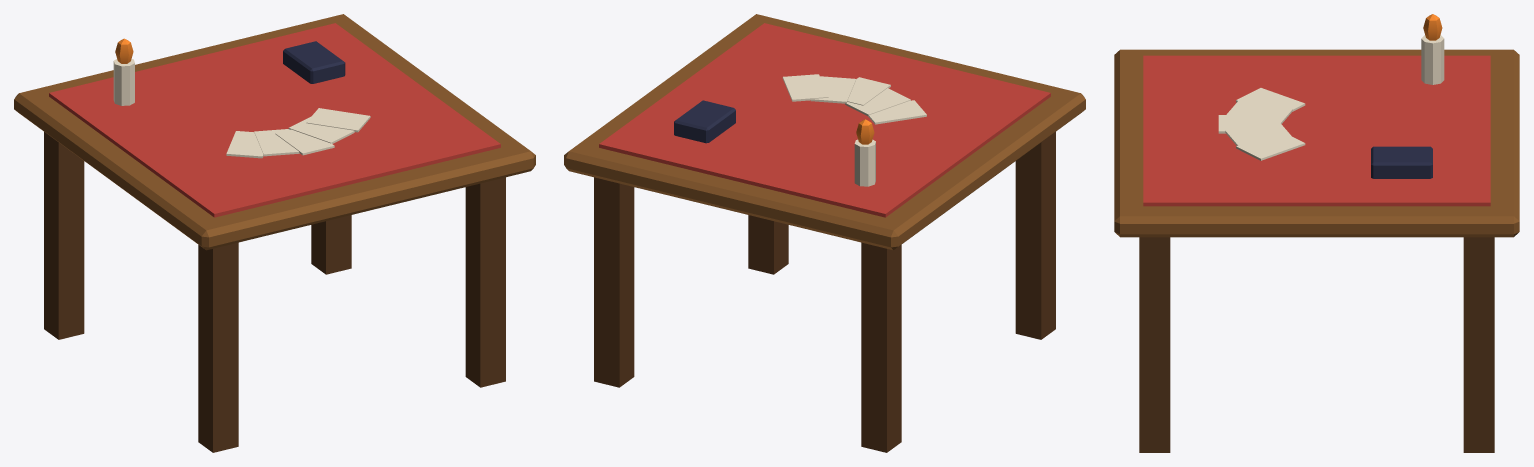
Rendered from PR_Furniture_KartMasasi.fbx.
3 views of the same model, side by side, from view 1: azimuth 30°, elevation 25°; view 2: azimuth 150°, elevation 25°; view 3: azimuth 270°, elevation 25° (orthographic). The views are drawn at different scales.
Visible parts, largest first — view 1: PR_Furniture_KartMasasi; view 2: PR_Furniture_KartMasasi; view 3: PR_Furniture_KartMasasi.
Part boxes in pixels (<box>): PR_Furniture_KartMasasi: <box>14,14,535,452</box>; PR_Furniture_KartMasasi: <box>564,14,1085,452</box>; PR_Furniture_KartMasasi: <box>1114,14,1519,452</box>.
Bounding box in the file's own units: 1.05 × 0.9 × 1.05.
1 material, 1 textured.
